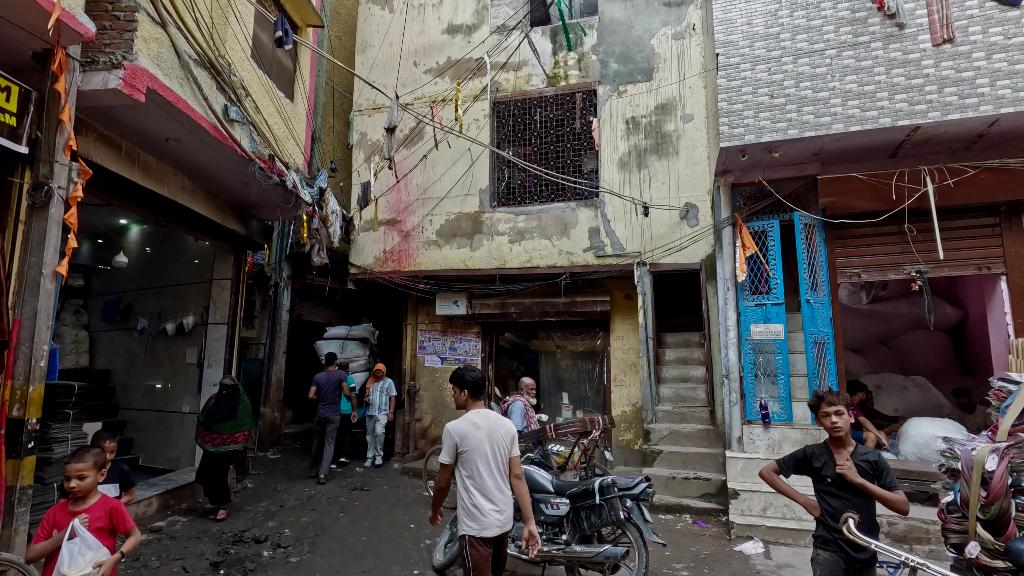garbage: (51, 516, 108, 576), (728, 533, 775, 560)
